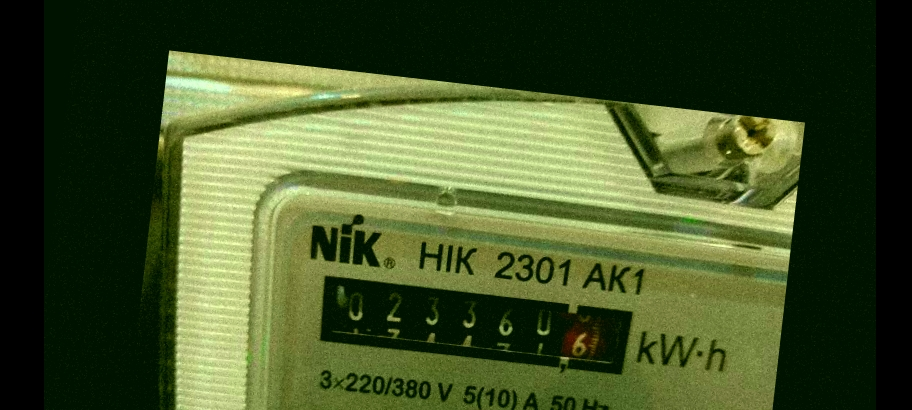0: (344, 287, 368, 323), (534, 305, 555, 338)
2: (382, 289, 408, 325)
3: (420, 293, 444, 327), (459, 296, 481, 329)
6: (494, 303, 517, 337), (567, 327, 591, 358)
screen: (298, 256, 649, 392)
